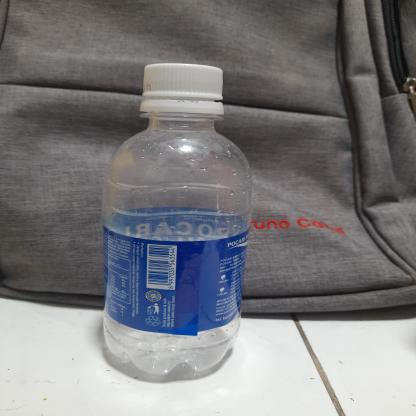bottle: (97, 58, 257, 381)
